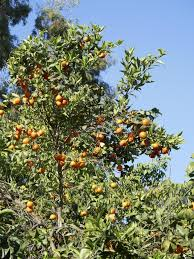orange: (138, 131, 148, 140)
